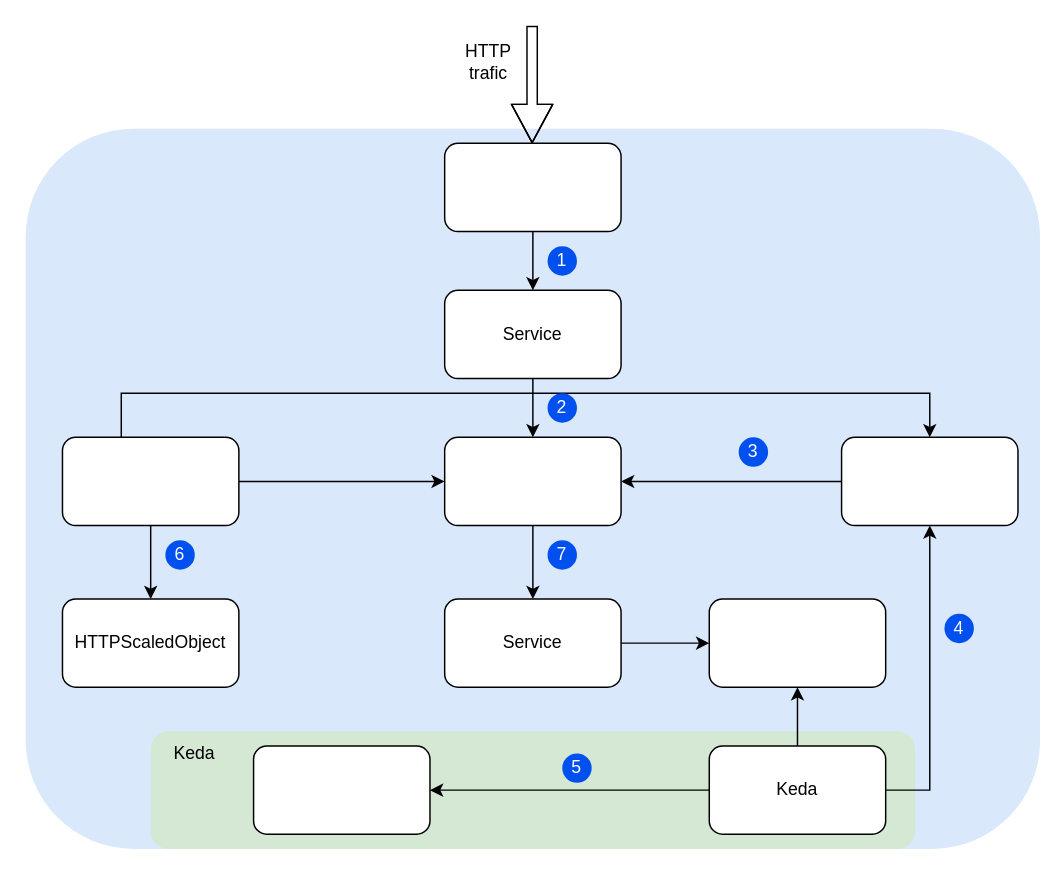
Some shapes in this 1064 by 873 pixel diagram are drawn without their labels. The shapes that lost their labels are listed below. From the top down, each one's centre as x and y in pixels, then its label:
(x=532, y=187): API Gateway
(x=150, y=481): KEDA-HTTP Operator
(x=532, y=481): Interceptor
(x=929, y=481): External Scaler
(x=797, y=642): Deployment
(x=341, y=789): ScaledObject
